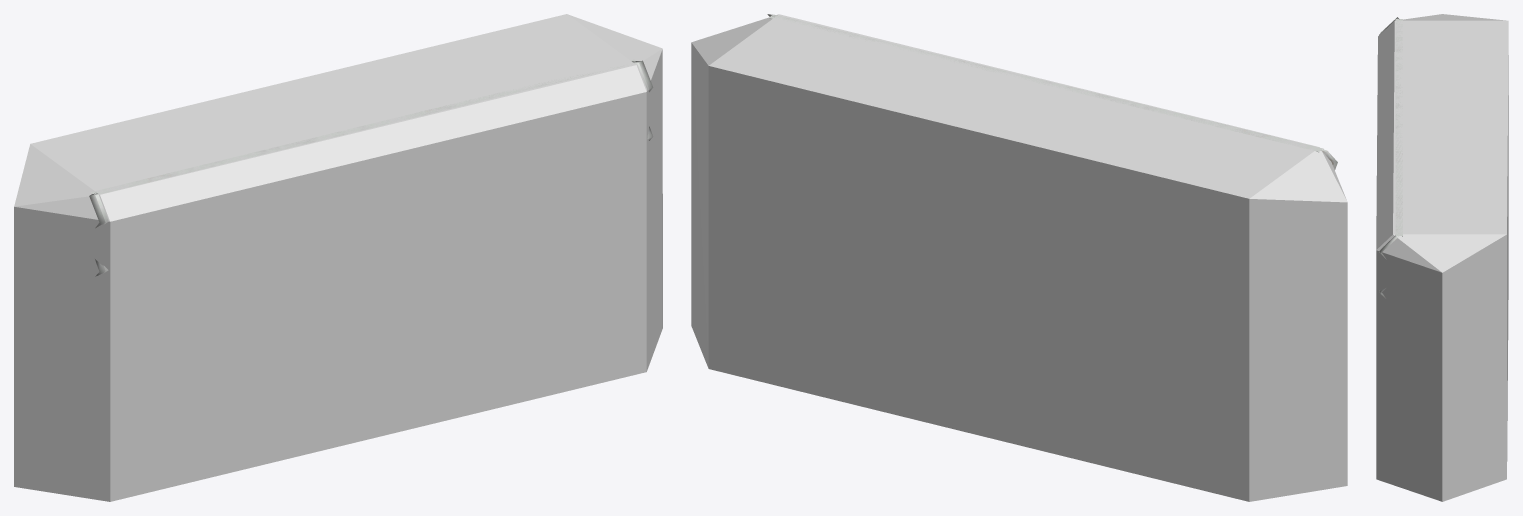
Rendered from hr_guardrail2.dae.
The picture shows the model from 3 angles, left to right: view 1: azimuth 30°, elevation 25°; view 2: azimuth 150°, elevation 25°; view 3: azimuth 270°, elevation 25°; orthographic projection. The views are drawn at different scales.
Visible parts, largest first — view 1: Colmesh_hr_guardrail-2, eca_guardrail2_a070, eca_guardrail2_a200; view 2: Colmesh_hr_guardrail-2, eca_guardrail2_a070; view 3: Colmesh_hr_guardrail-2, eca_guardrail2_a070, eca_guardrail2_a200.
Boxes of the visible parts, x1=… form: Colmesh_hr_guardrail-2: x1=14, y1=14, x2=662, y2=501; eca_guardrail2_a070: x1=91, y1=59, x2=649, y2=273; eca_guardrail2_a200: x1=89, y1=60, x2=653, y2=276; Colmesh_hr_guardrail-2: x1=691, y1=14, x2=1347, y2=501; eca_guardrail2_a070: x1=769, y1=14, x2=1323, y2=152; Colmesh_hr_guardrail-2: x1=1376, y1=14, x2=1508, y2=501; eca_guardrail2_a070: x1=1379, y1=19, x2=1402, y2=292; eca_guardrail2_a200: x1=1379, y1=17, x2=1400, y2=298.
Size of the model in its own units: 2.42 by 0.5244 by 1.07.
